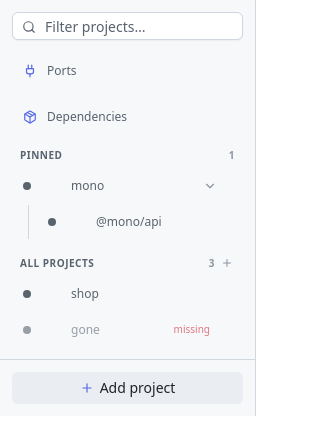
Scenario: Sidebar › shows the filtered count and a no-match hint that clears the filter
Type "sho" into the field labelled "Filter projects". click: (128, 26)
box: [12,12,243,40]
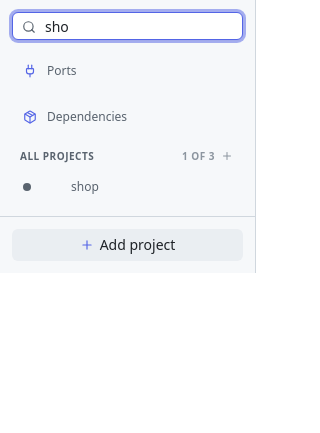
Expected: the text "1 of 3" is shown, [182,148,215,164]
Type "zzz" into the field named "Filter projects". click: (128, 26)
box: [12,12,243,40]
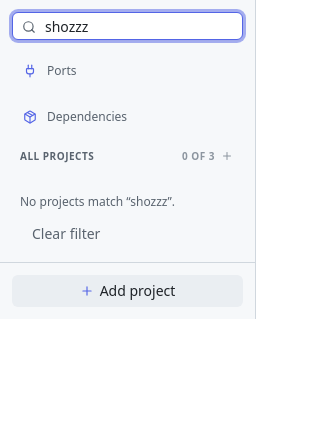
Expected: the text "No projects match “shozzz”." is shown, [20,193,175,210]
Click the button "Clear filter". click: (66, 234)
box: [20,218,112,250]
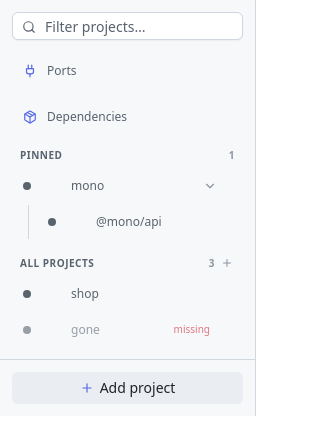
Expected: the text "3" is shown, [209,256,215,270]
Expected: the field labelled "Filter projects" is empty, [12,12,243,40]
